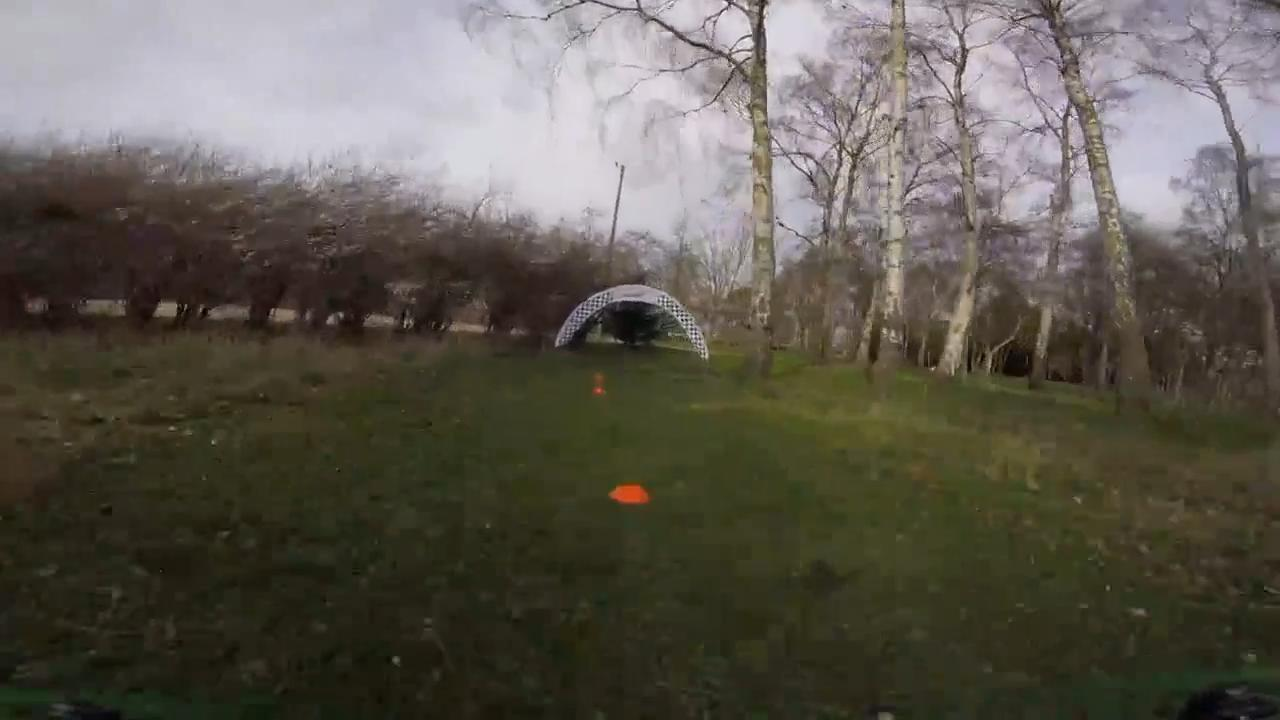gate: (557, 283, 708, 367)
